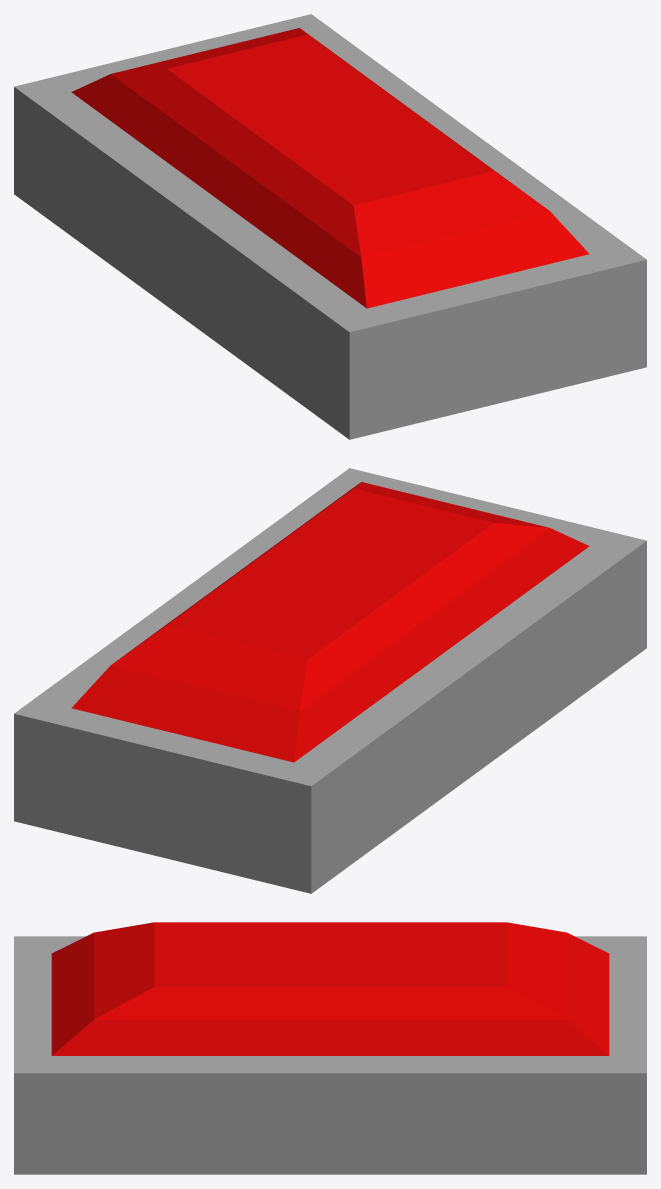
The model's file is Light 1.fbx.
The picture shows the model from 3 angles, top to bottom: view 1: azimuth 30°, elevation 25°; view 2: azimuth 150°, elevation 25°; view 3: azimuth 270°, elevation 25°; orthographic projection. The views are drawn at different scales.
Parts seen in each view (by area): view 1: polySurface1; view 2: polySurface1; view 3: polySurface1.
Part boxes in pixels (x1,y1,x2,y2): polySurface1: (14, 14, 646, 439); polySurface1: (14, 468, 646, 893); polySurface1: (14, 922, 646, 1174).
Bounding box in the file's own units: 1 × 0.5166 × 1.95.
